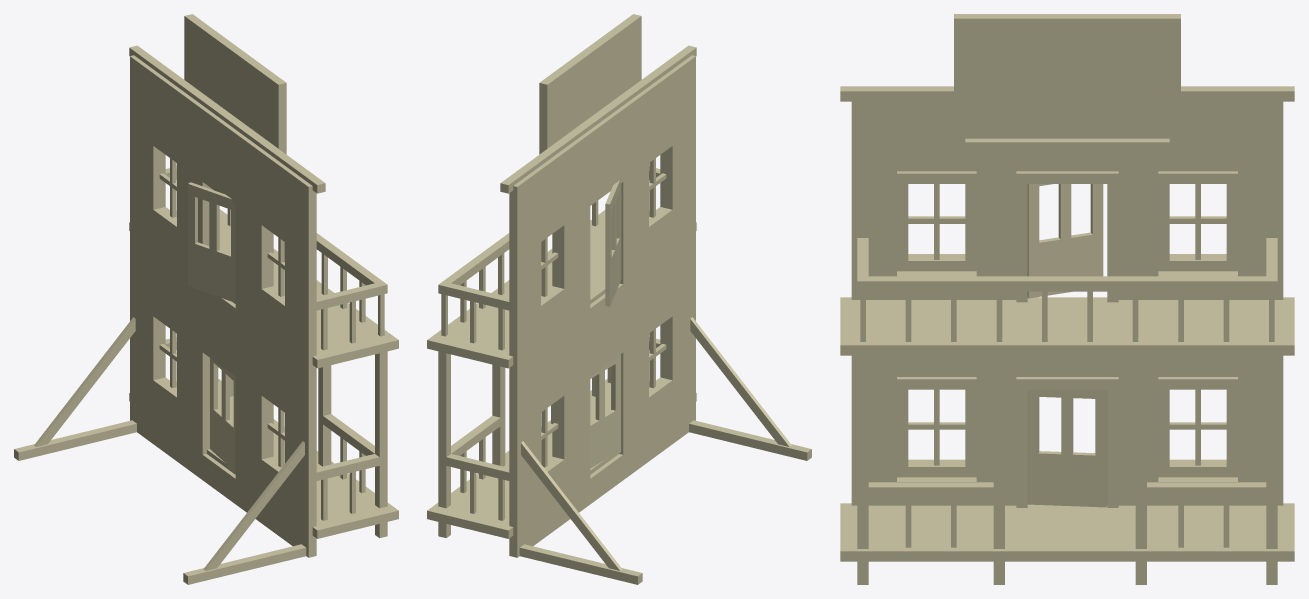
File: Western_Facade_02.FBX
The picture shows the model from 3 angles, left to right: view 1: azimuth 30°, elevation 25°; view 2: azimuth 150°, elevation 25°; view 3: azimuth 270°, elevation 25°; orthographic projection. The views are drawn at different scales.
Visible parts, largest first — view 1: Building_01; view 2: Building_01; view 3: Building_01.
Part boxes in pixels (bbox=[...]): Building_01: bbox=[14, 14, 398, 584]; Building_01: bbox=[427, 14, 811, 584]; Building_01: bbox=[840, 14, 1294, 584].
Size of the model in its own units: 500 by 800 by 1030.
